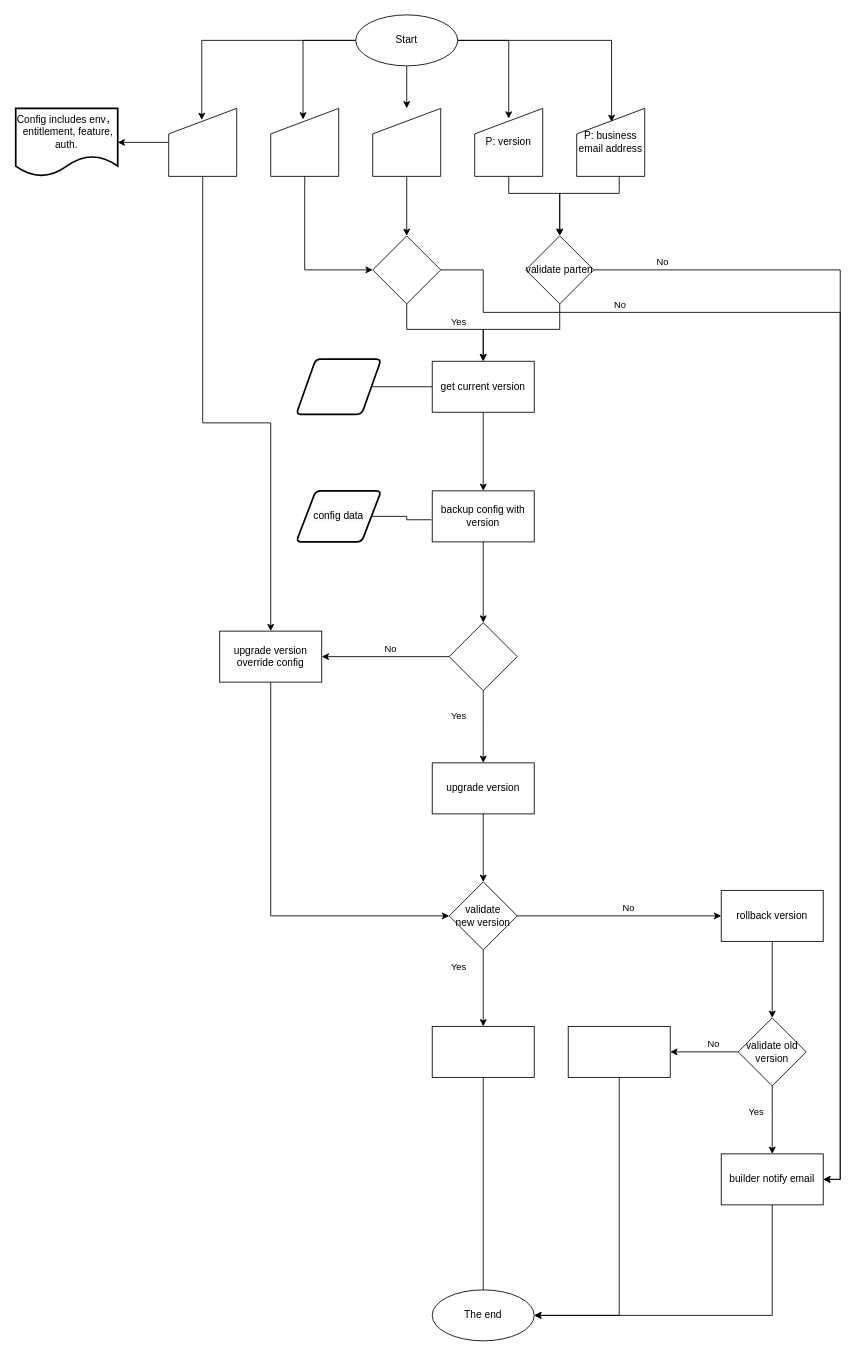
Some shapes in this 862 by 1356 pixel diagram are drawn without their labels. Here are the shapes that lost their labels. From the top down, the box of each, then its label:
(168, 108, 237, 176): P: override config
(270, 108, 339, 176): P: shop
(372, 108, 441, 176): P: station/group
(372, 235, 441, 304): validate exist
(295, 358, 382, 415): version info
(448, 622, 517, 691): validate config with version
(431, 1026, 534, 1077): changelog Email
(567, 1026, 670, 1077): issue notify email
